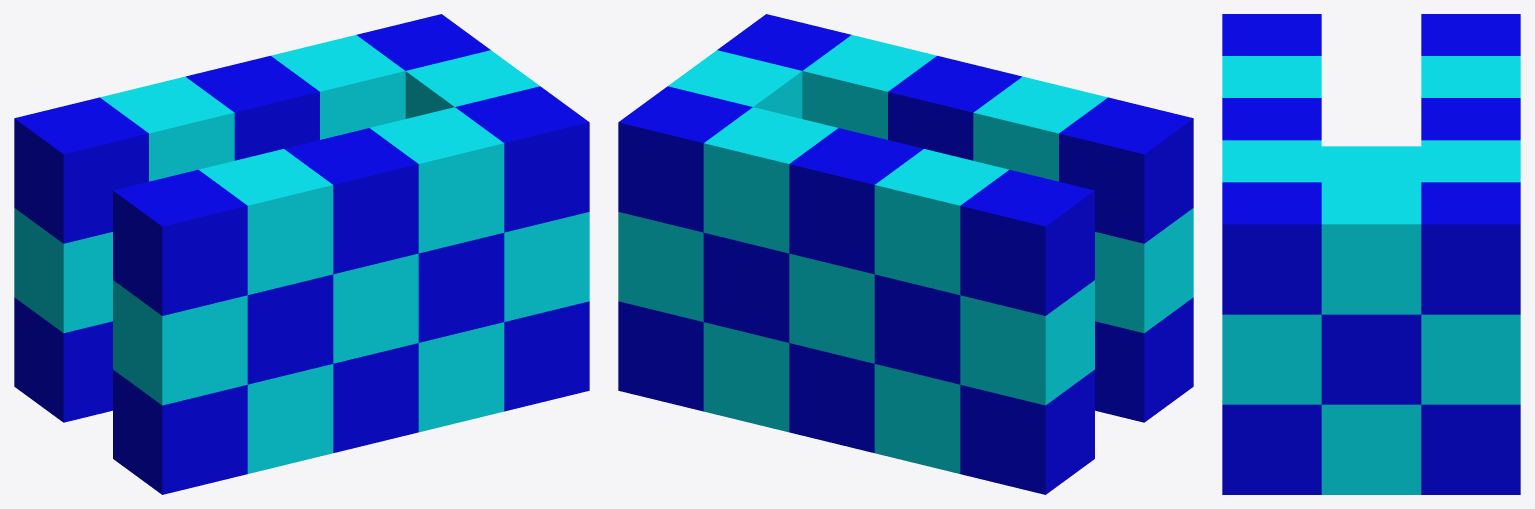
The model's file is ejemplo-4.glb.
3 views of the same model, side by side, from view 1: azimuth 30°, elevation 25°; view 2: azimuth 150°, elevation 25°; view 3: azimuth 270°, elevation 25° (orthographic).
Parts seen in each view (by area): view 1: Box045, Box040, Box015, Box030, Box042, Box044, Box043, Box041, Box010, Box025, Box037, Box039 (+11 smaller); view 2: Box040, Box045, Box010, Box025, Box037, Box039, Box038, Box036, Box015, Box030, Box042, Box044 (+11 smaller); view 3: Box033, Box038, Box043, Box003, Box018, Box008, Box013, Box023, Box028, Box036, Box037, Box041 (+6 smaller).
Part boxes in pixels (box(x1,y1,x2,y2)): Box045: box(113, 169, 247, 315); Box040: box(14, 97, 148, 243); Box015: box(113, 369, 247, 494); Box030: box(113, 280, 247, 405); Box042: box(370, 107, 504, 253); Box044: box(199, 149, 333, 294); Box043: box(455, 86, 589, 232); Box041: box(284, 128, 418, 274); Box010: box(14, 297, 112, 422); Box025: box(14, 208, 112, 333); Box037: box(271, 35, 405, 139); Box039: box(100, 76, 234, 181); Box040: box(960, 169, 1094, 315); Box045: box(1059, 97, 1193, 243); Box010: box(960, 369, 1094, 494); Box025: box(960, 280, 1094, 405); Box037: box(703, 107, 837, 253); Box039: box(874, 149, 1008, 294); Box038: box(618, 86, 752, 232); Box036: box(789, 128, 923, 274); Box015: box(1095, 297, 1193, 422); Box030: box(1095, 208, 1193, 333); Box042: box(802, 35, 936, 139); Box044: box(973, 76, 1107, 181); Box033: box(1321, 182, 1421, 314); Box038: box(1421, 182, 1520, 314); Box043: box(1222, 182, 1321, 314); Box003: box(1321, 404, 1421, 494); Box018: box(1321, 314, 1421, 404); Box008: box(1421, 404, 1520, 494); Box013: box(1222, 404, 1321, 494); Box023: box(1421, 314, 1520, 404); Box028: box(1222, 314, 1321, 404); Box036: box(1421, 98, 1520, 140); Box037: box(1421, 140, 1520, 182); Box041: box(1222, 98, 1321, 140).
Size of the model in its own units: 0.254 by 0.1524 by 0.1524.
